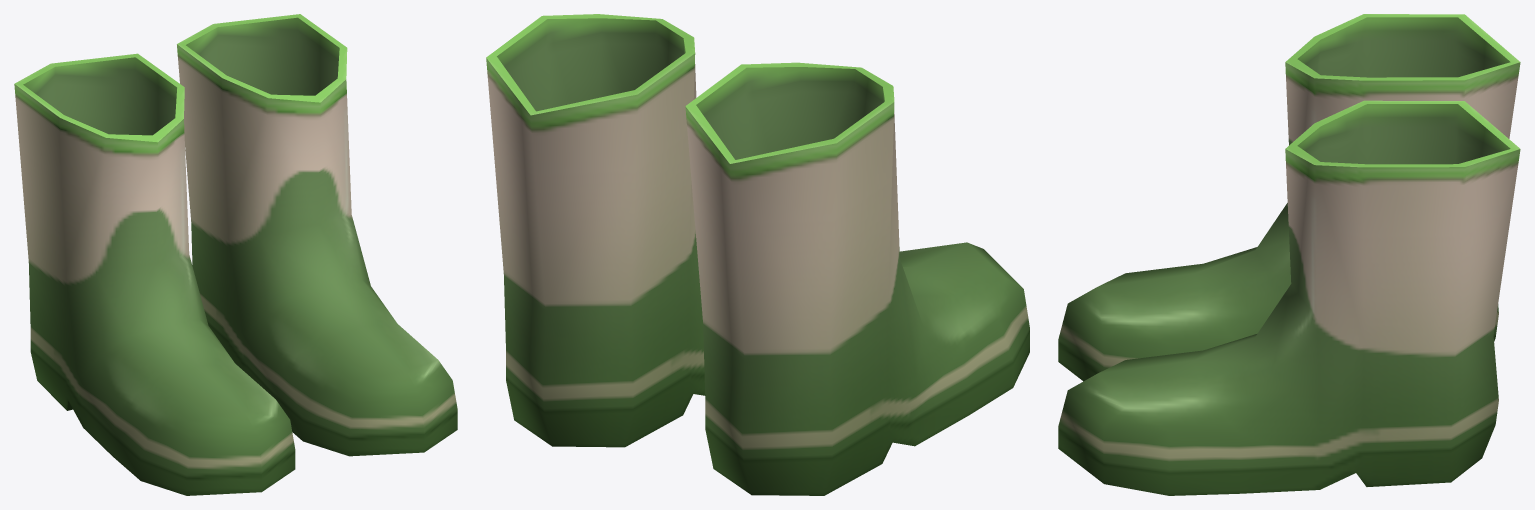
The model's file is set_rainboots_04.fbx.
The picture shows the model from 3 angles, left to right: view 1: azimuth 30°, elevation 25°; view 2: azimuth 150°, elevation 25°; view 3: azimuth 270°, elevation 25°; orthographic projection. The views are drawn at different scales.
Parts seen in each view (by area): view 1: rainboots_04_R, rainboots_04_L; view 2: rainboots_04_R, rainboots_04_L; view 3: rainboots_04_L, rainboots_04_R.
Boxes of the visible parts, x1,y1,x2,y2 form: rainboots_04_R: (14, 53, 295, 495); rainboots_04_L: (177, 14, 457, 456); rainboots_04_R: (685, 62, 1029, 495); rainboots_04_L: (486, 14, 705, 447); rainboots_04_L: (1058, 100, 1520, 495); rainboots_04_R: (1058, 14, 1520, 381).
Bounding box in the file's own units: 20.89 × 19.47 × 25.15.
